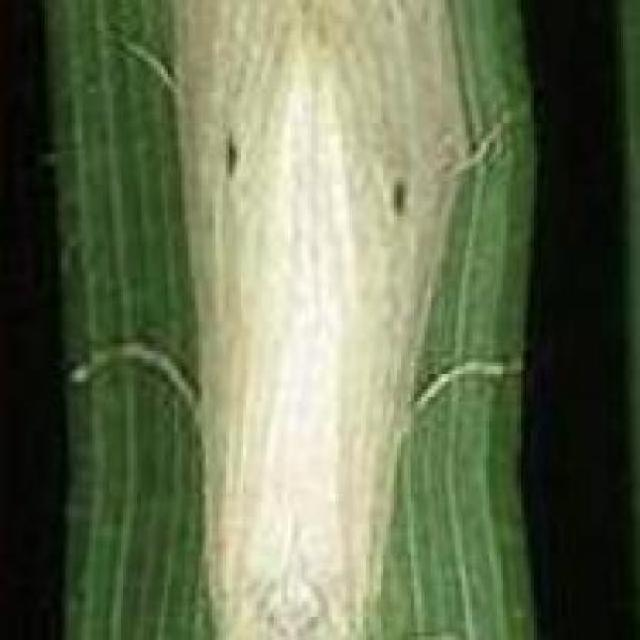stem-borer: (142, 0, 487, 640)
